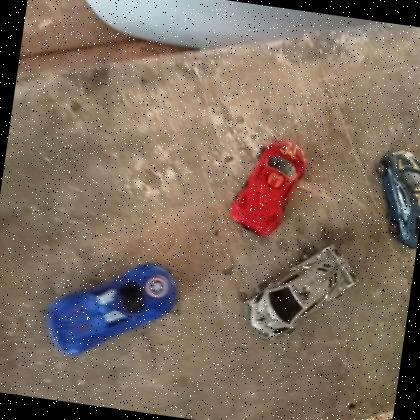Car: (40, 250, 183, 373), (241, 232, 363, 352), (224, 130, 312, 242)
